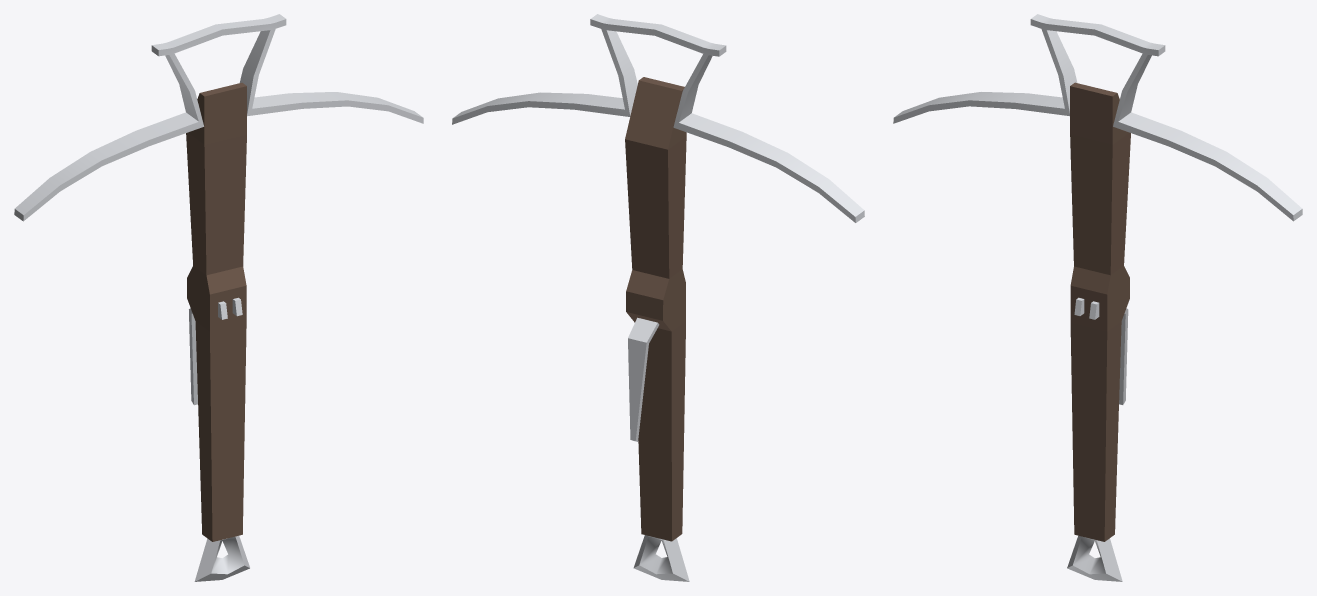
The model's file is Weapon_Crossbow.glb.
The picture shows the model from 3 angles, left to right: view 1: azimuth 30°, elevation 25°; view 2: azimuth 150°, elevation 25°; view 3: azimuth 330°, elevation 25°; orthographic projection.
Parts seen in each view (by area): view 1: Weapon_Crossbow; view 2: Weapon_Crossbow; view 3: Weapon_Crossbow.
Boxes of the visible parts, x1,y1,x2,y2 form: Weapon_Crossbow: (14,14,423,581); Weapon_Crossbow: (452,14,864,581); Weapon_Crossbow: (893,14,1302,581).
Bounding box in the file's own units: 0.6085 × 0.8 × 0.1013.
